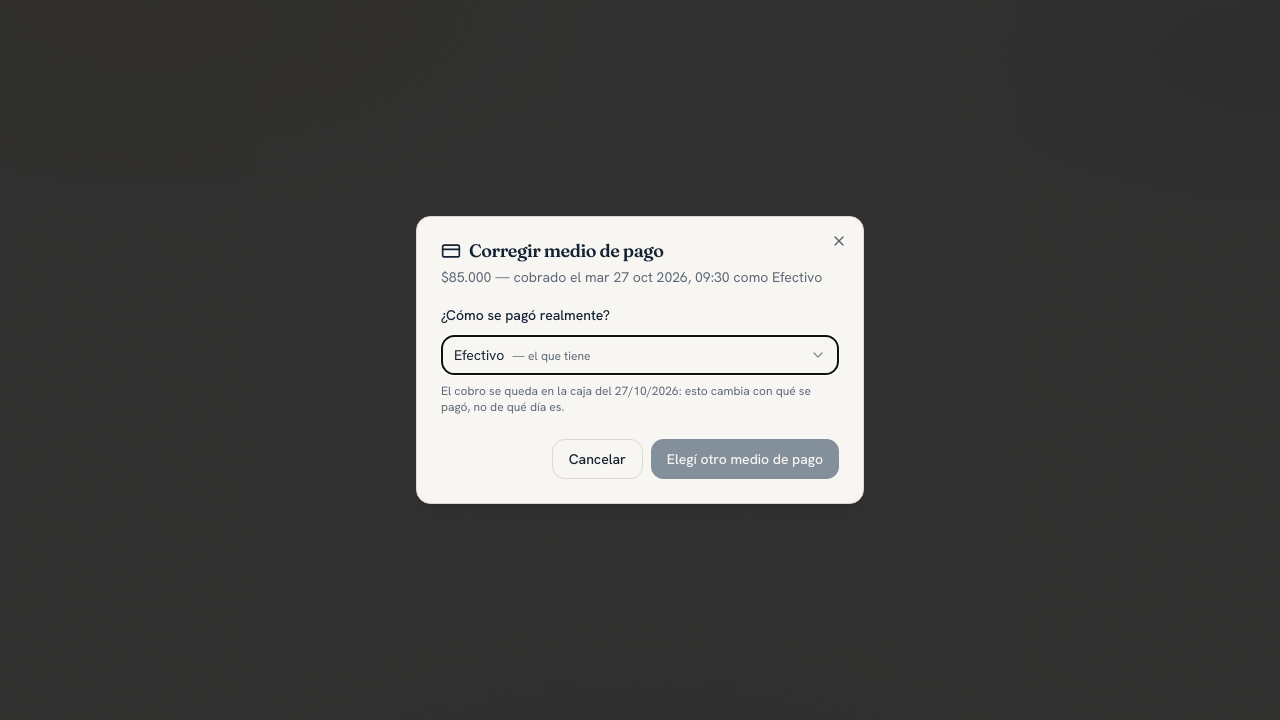
el aviso de que se mueve el efectivo › avisa que baja al salir del efectivo, y que va a dar sobrante
This screenshot has width=1280, height=720.
What coordinates should you click on to do the following:
click the dropdown
I would click on:
 (479, 355)
Its box is [441,335,839,375].
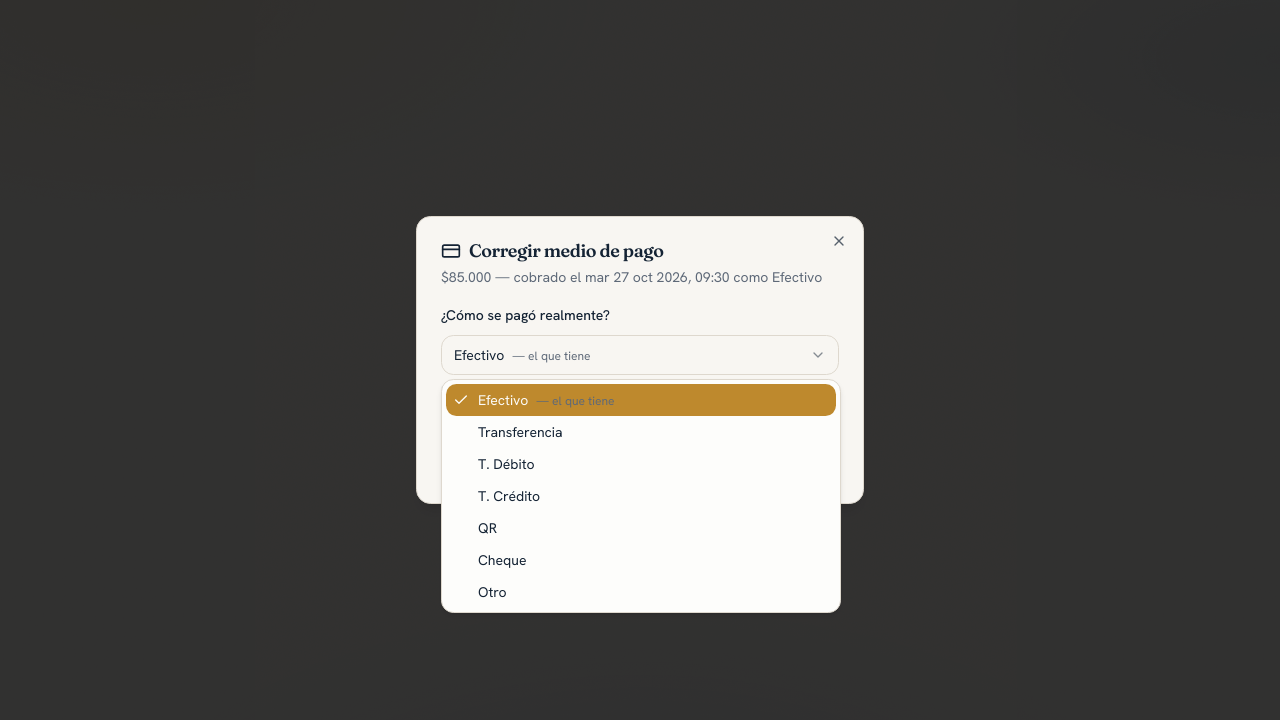
What coordinates should you click on to do the following:
click the option "QR"
I would click on:
 (488, 528)
Its box is [478,519,497,537].
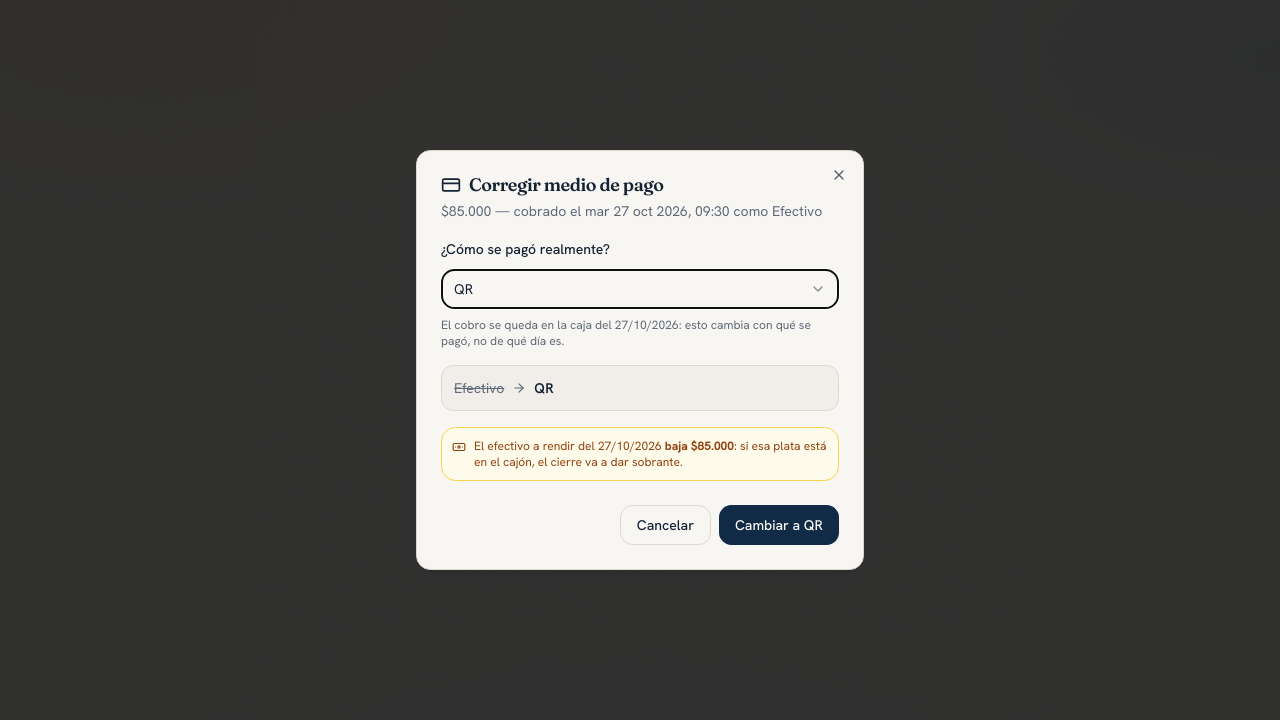
Now the text "baja $85.000" is shown, box [665,438,734,454]
Now the text "sobrante" is shown, box [474,438,826,470]
